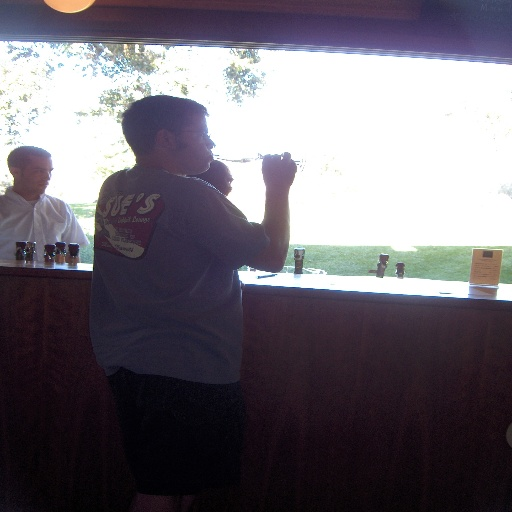hand: (252, 151, 299, 241)
